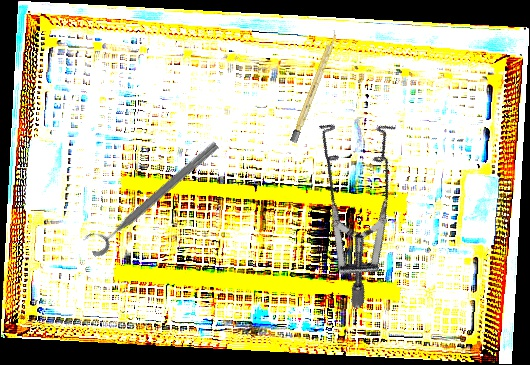Fixation Ring: (80, 131, 223, 260)
Scalpel Handle: (289, 29, 340, 144)
Speculum: (246, 93, 452, 312)
